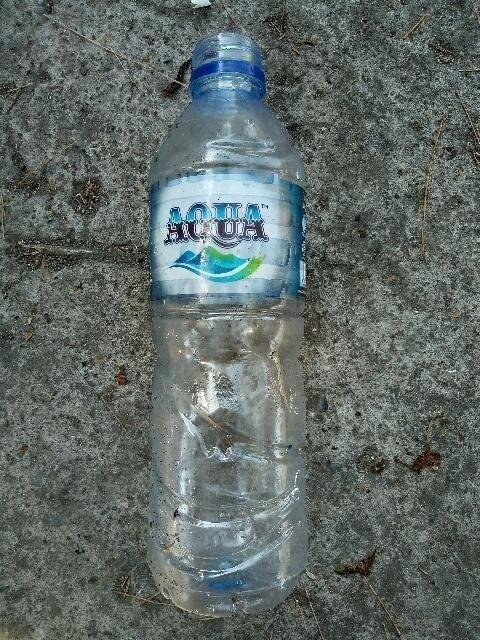bottle-plastic: (144, 31, 315, 618)
